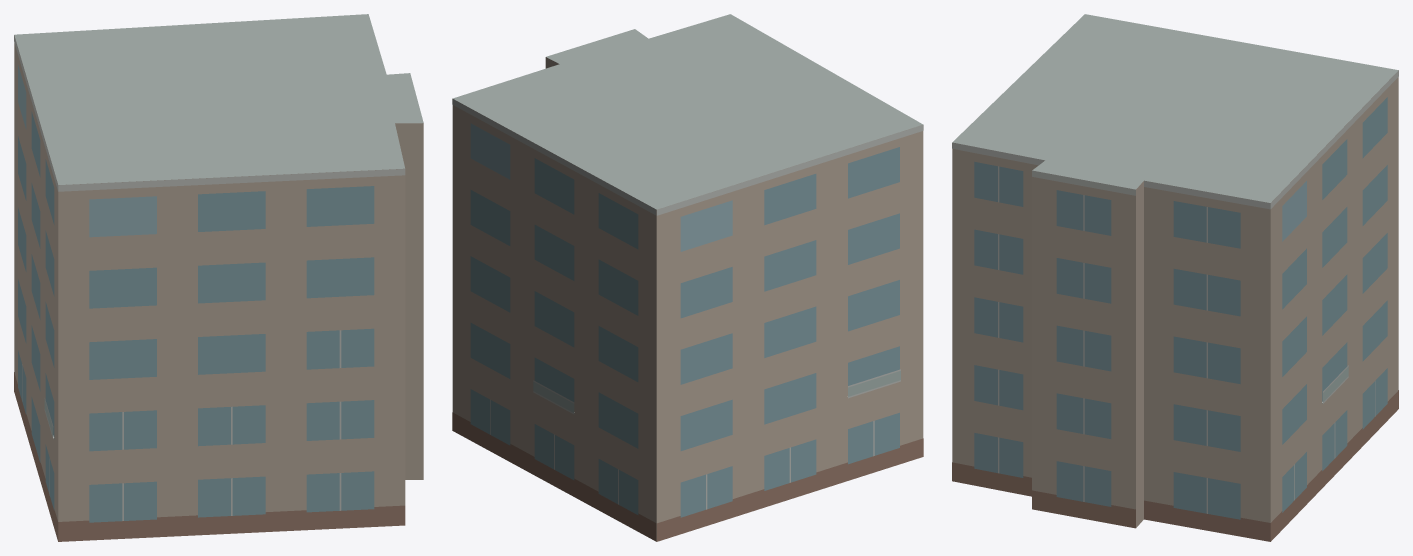
File: survey-upis-32529979.glb
3 renders of one model, left to right at view 1: azimuth 30°, elevation 25°; view 2: azimuth 150°, elevation 25°; view 3: azimuth 270°, elevation 25°, orthographic. The views are drawn at different scales.
Visible parts, largest first — view 1: survey-upis-32529979.tmp; view 2: survey-upis-32529979.tmp; view 3: survey-upis-32529979.tmp.
Part boxes in pixels (x1,y1,x2,y2): survey-upis-32529979.tmp: (14,14,423,541); survey-upis-32529979.tmp: (452,14,923,541); survey-upis-32529979.tmp: (952,14,1398,541).
Bounding box in the file's own units: 15.69 × 13.1 × 15.66.
